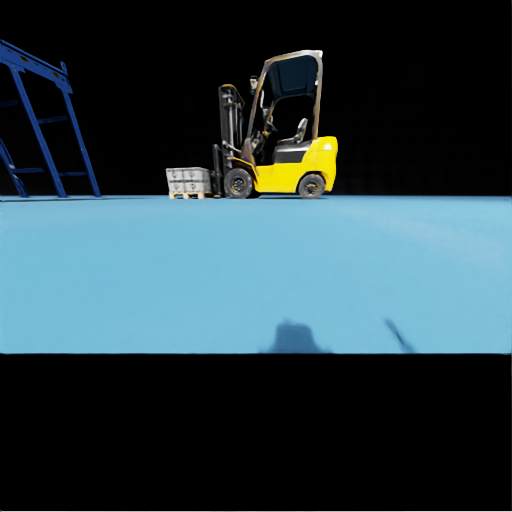transportation_area: (184, 180, 214, 191), (8, 50, 9, 51)
